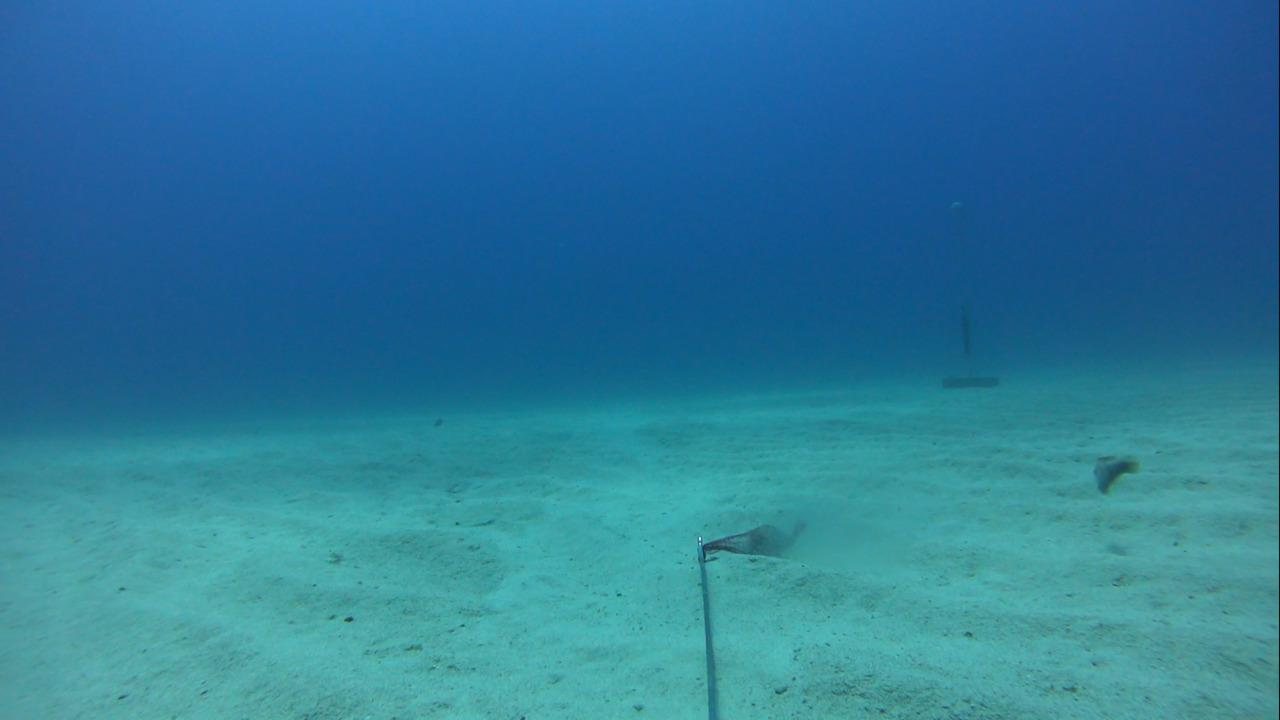raor: (1090, 446, 1143, 494)
